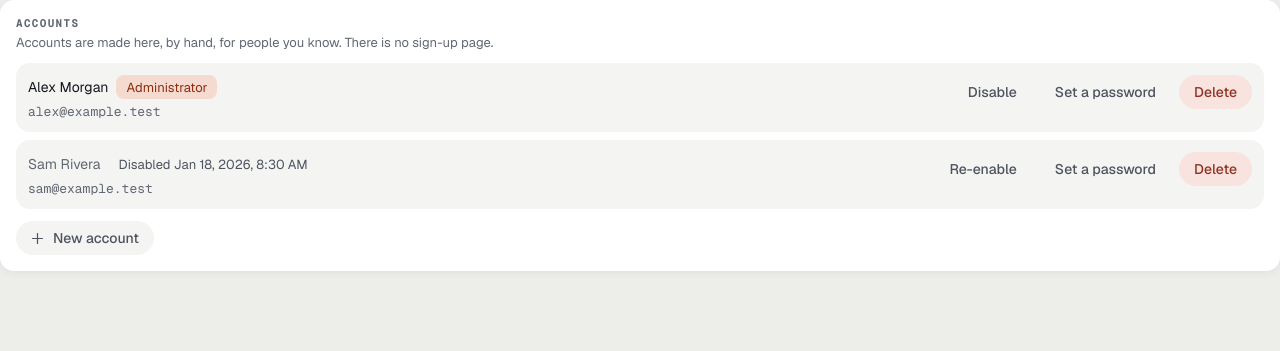
Scenario: deleting an account › reports the refusal in the words that name what stands in the way
This screenshot has width=1280, height=351.
Click the button with aria-label "Delete the account for Alex Morgan".
click(1215, 92)  # box [1179,75,1252,109]
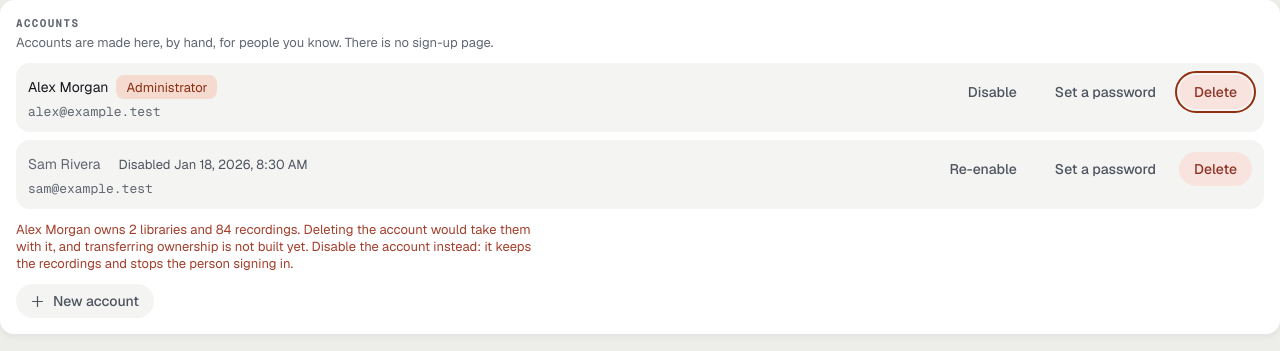
Now the message shows "owns 2 libraries and 84 recordings", box [16,221,531,272]
Now the message shows "Disable the account instead", box [16,221,531,272]
